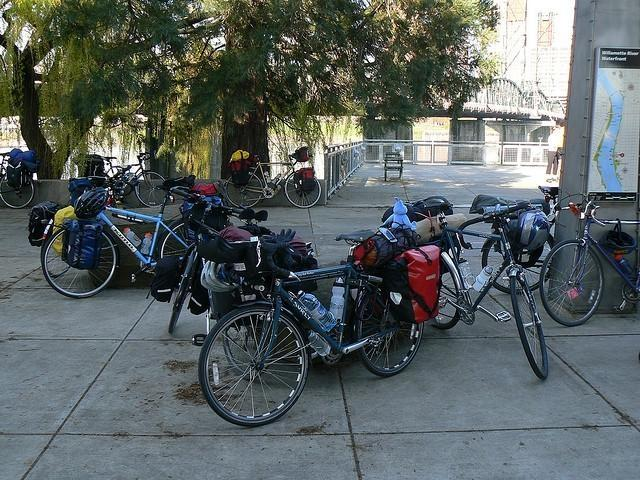bicycle: (199, 229, 425, 426), (424, 196, 550, 381), (44, 184, 194, 298), (162, 184, 270, 340), (539, 193, 640, 328), (479, 185, 562, 295), (227, 156, 322, 212), (0, 153, 35, 209), (136, 152, 167, 207), (102, 158, 140, 197)
